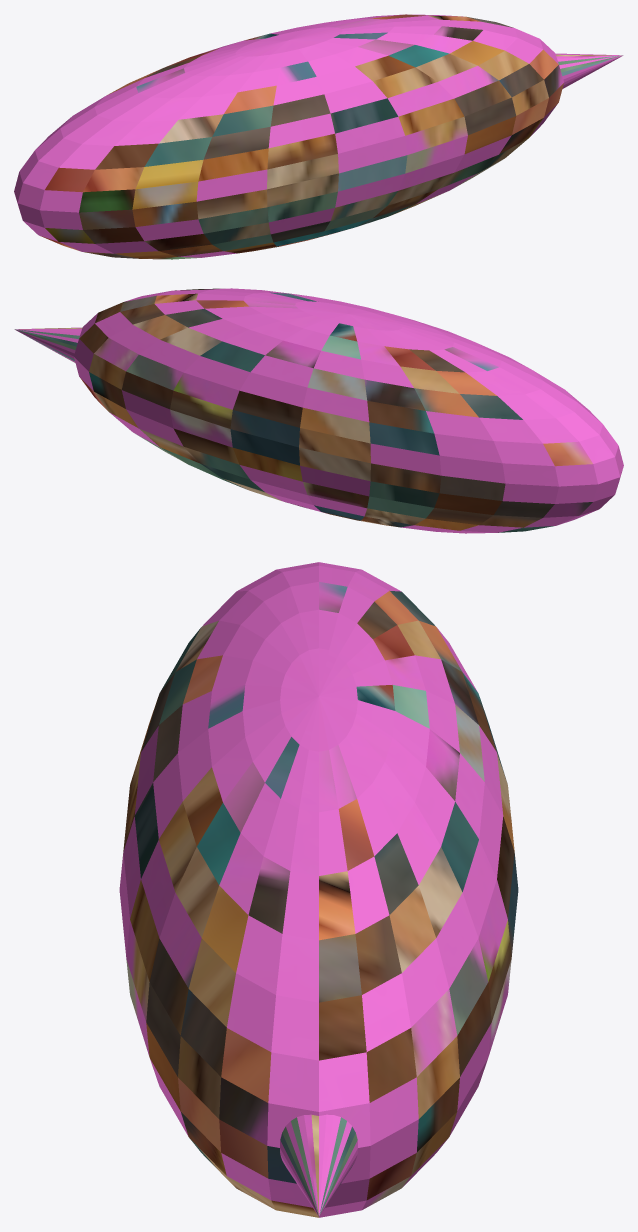
Rendered from stilt_house.glb.
3 renders of one model, top to bottom at view 1: azimuth 30°, elevation 25°; view 2: azimuth 150°, elevation 25°; view 3: azimuth 270°, elevation 25°, orthographic. The views are drawn at different scales.
Visible parts, largest first — view 1: stilt_house; view 2: stilt_house; view 3: stilt_house.
Boxes of the visible parts, left/top/right/bottom form: stilt_house: left=14, top=14, right=623, bottom=259; stilt_house: left=14, top=288, right=623, bottom=533; stilt_house: left=119, top=562, right=518, bottom=1217.
Bounding box in the file's own units: 1.55 × 0.4725 × 0.441.
1 material, 1 textured.
